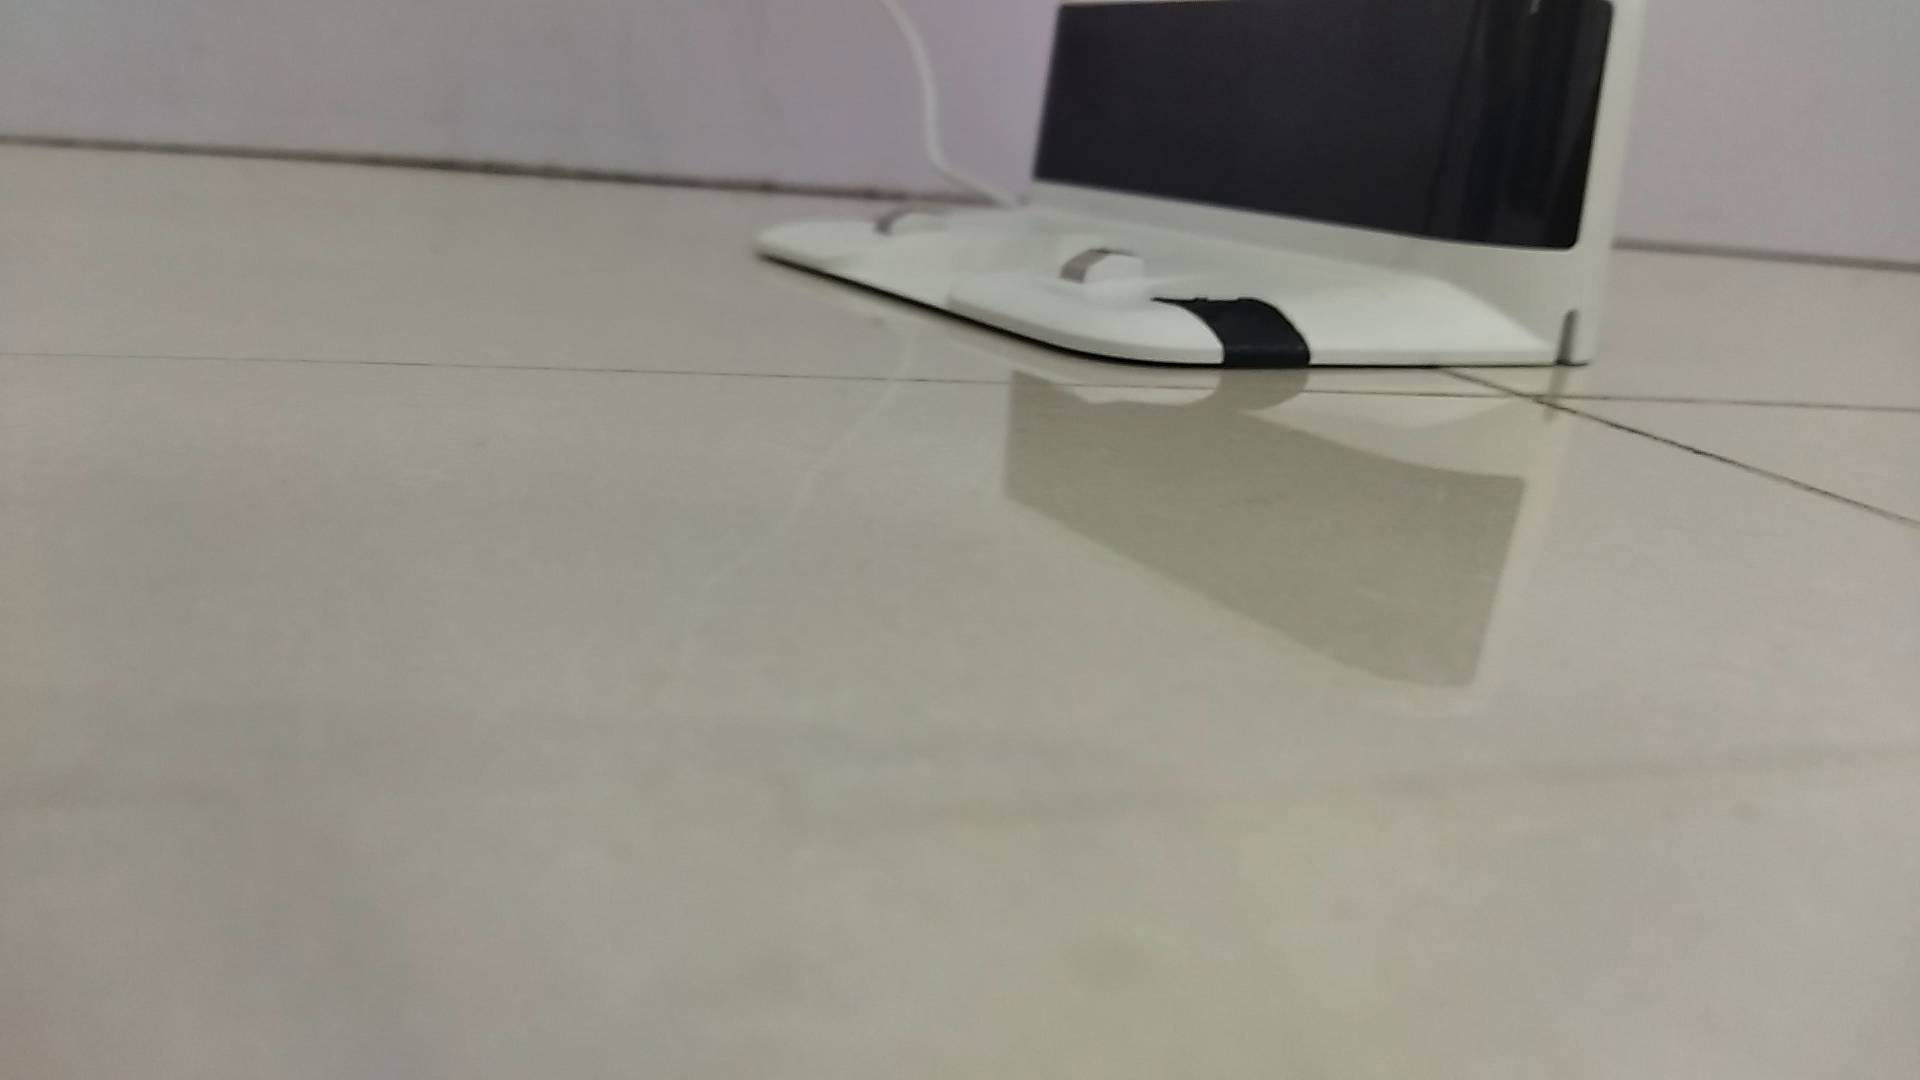recharge seat: (753, 1, 1654, 371)
